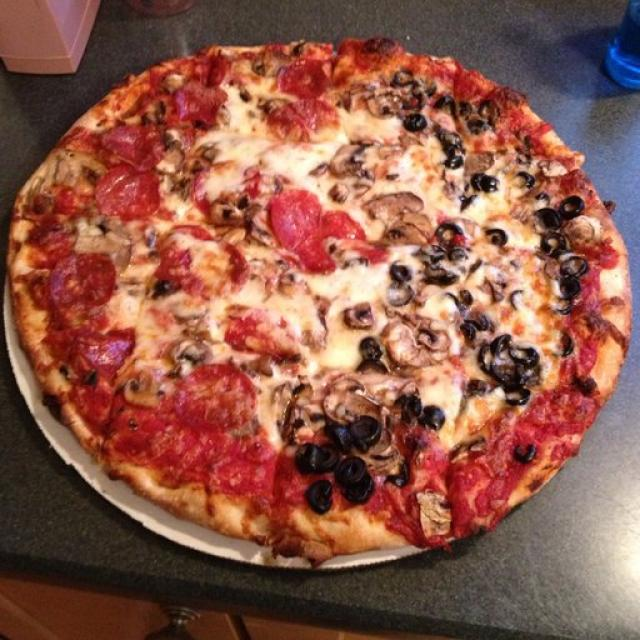Mushrooms: (313, 140, 372, 200), (366, 193, 431, 247), (162, 134, 213, 190), (389, 322, 451, 365), (176, 316, 216, 372), (283, 394, 320, 444), (40, 152, 86, 192), (330, 380, 374, 420), (414, 492, 452, 538), (211, 196, 261, 227), (344, 88, 397, 112), (124, 382, 164, 412), (366, 449, 404, 478), (241, 361, 273, 385), (464, 152, 488, 180), (344, 305, 373, 326), (142, 101, 171, 121), (163, 72, 186, 91)
Olives: (481, 342, 534, 408), (441, 95, 495, 132), (544, 198, 581, 246), (401, 395, 446, 429), (333, 418, 380, 450), (339, 462, 376, 498), (438, 125, 467, 167), (562, 260, 586, 306), (399, 76, 435, 106), (360, 334, 383, 376), (296, 451, 336, 472), (434, 225, 462, 253), (306, 483, 330, 514), (463, 318, 488, 346), (473, 173, 500, 194), (393, 464, 413, 489), (515, 440, 534, 462), (485, 229, 507, 246), (394, 264, 408, 286), (407, 114, 422, 130)
Pepperoni: (178, 368, 255, 426), (173, 241, 252, 296), (225, 303, 303, 357), (270, 192, 318, 268), (180, 51, 228, 126), (54, 255, 112, 312), (322, 216, 382, 264), (100, 170, 156, 220), (274, 97, 341, 138), (109, 118, 160, 168), (86, 328, 137, 372), (272, 60, 324, 96)
Pizza: (8, 38, 631, 556)
